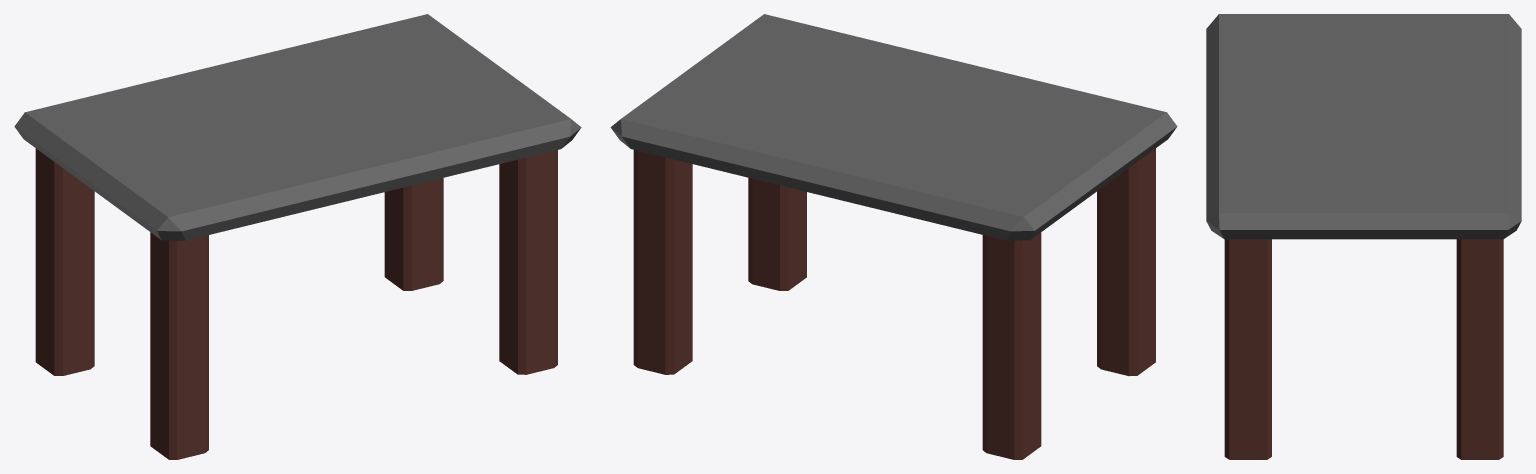
The model's file is stone_table.fbx.
3 views of the same model, side by side, from view 1: azimuth 30°, elevation 25°; view 2: azimuth 150°, elevation 25°; view 3: azimuth 270°, elevation 25° (orthographic).
Parts seen in each view (by area): view 1: stone_table; view 2: stone_table; view 3: stone_table.
Boxes of the visible parts, x1,y1,x2,y2 form: stone_table: [14, 14, 581, 459]; stone_table: [610, 14, 1177, 459]; stone_table: [1206, 14, 1521, 459].
Bounding box in the file's own units: 86.32 × 48.16 × 54.9.
